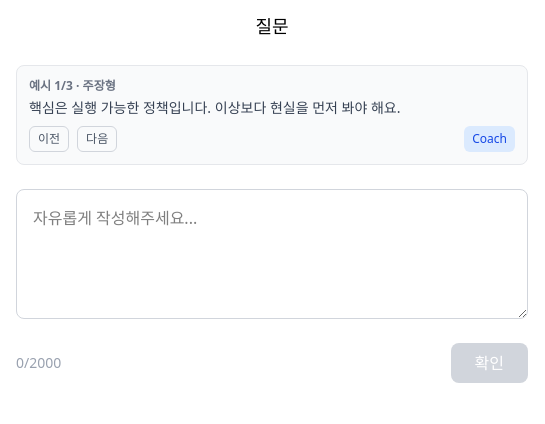
Test case: OpenEndedQuestion › shows coach guidance when coach button is clicked
The width and height of the screenshot is (545, 424).
Click the button "Coach": (490, 139) [464,126,515,152]
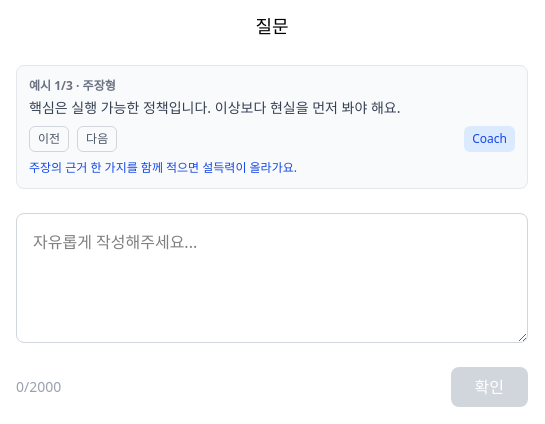
Now the text "주장의 근거 한 가지를 함께 적으면 설득력이 올라가요." is shown, box [29,159,297,176]
